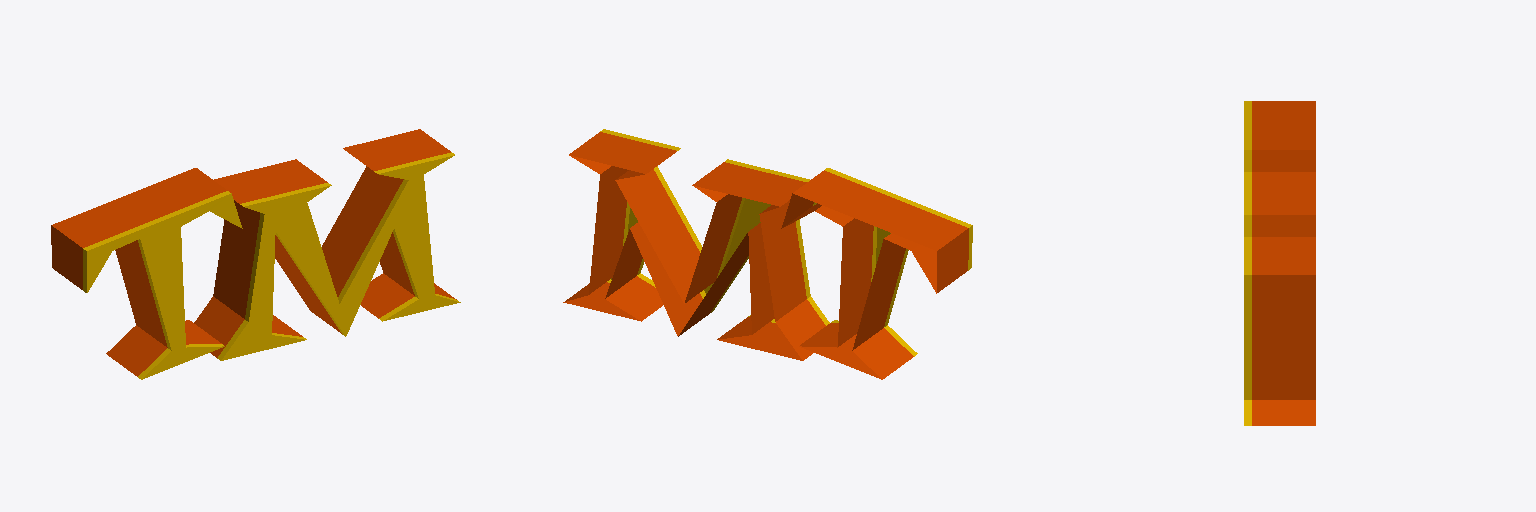
The picture shows the model from 3 angles: view 1: azimuth 30°, elevation 25°; view 2: azimuth 150°, elevation 25°; view 3: azimuth 270°, elevation 25°; orthographic projection.
Parts seen in each view (by area): view 1: TM; view 2: TM; view 3: TM.
Part boxes in pixels (left/top/right/bottom): TM: left=51, top=129, right=460, bottom=379; TM: left=563, top=129, right=972, bottom=379; TM: left=1244, top=101, right=1315, bottom=425.
Size of the model in its own units: 4.39 by 1.93 by 0.7242.
1 materials, 1 textured.